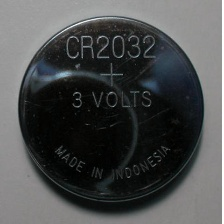battery: (14, 11, 204, 207)
